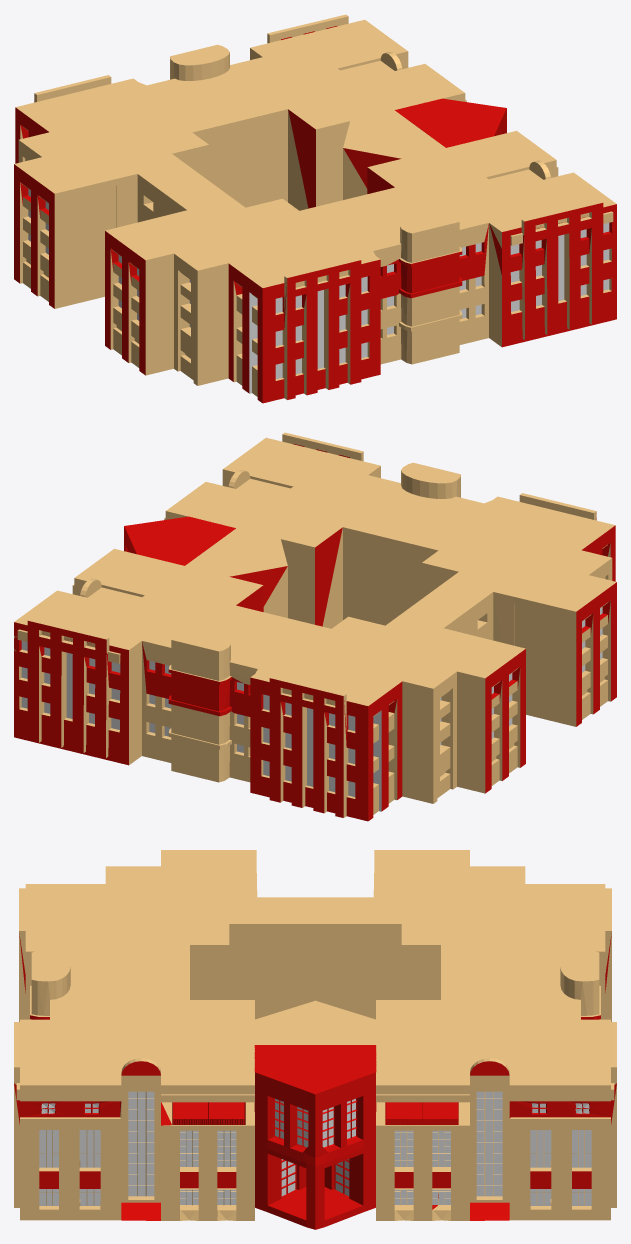
The model's file is BMBT.fbx.
3 views of the same model, one above another, from view 1: azimuth 30°, elevation 25°; view 2: azimuth 150°, elevation 25°; view 3: azimuth 270°, elevation 25° (orthographic). The views are drawn at different scales.
Parts seen in each view (by area): view 1: Cube; view 2: Cube; view 3: Cube.
Part boxes in pixels (x1=…): Cube: x1=14, y1=14, x2=616, y2=403; Cube: x1=14, y1=432, x2=616, y2=821; Cube: x1=14, y1=850, x2=616, y2=1229.
Bounding box in the file's own units: 1791 × 526 × 1868.
